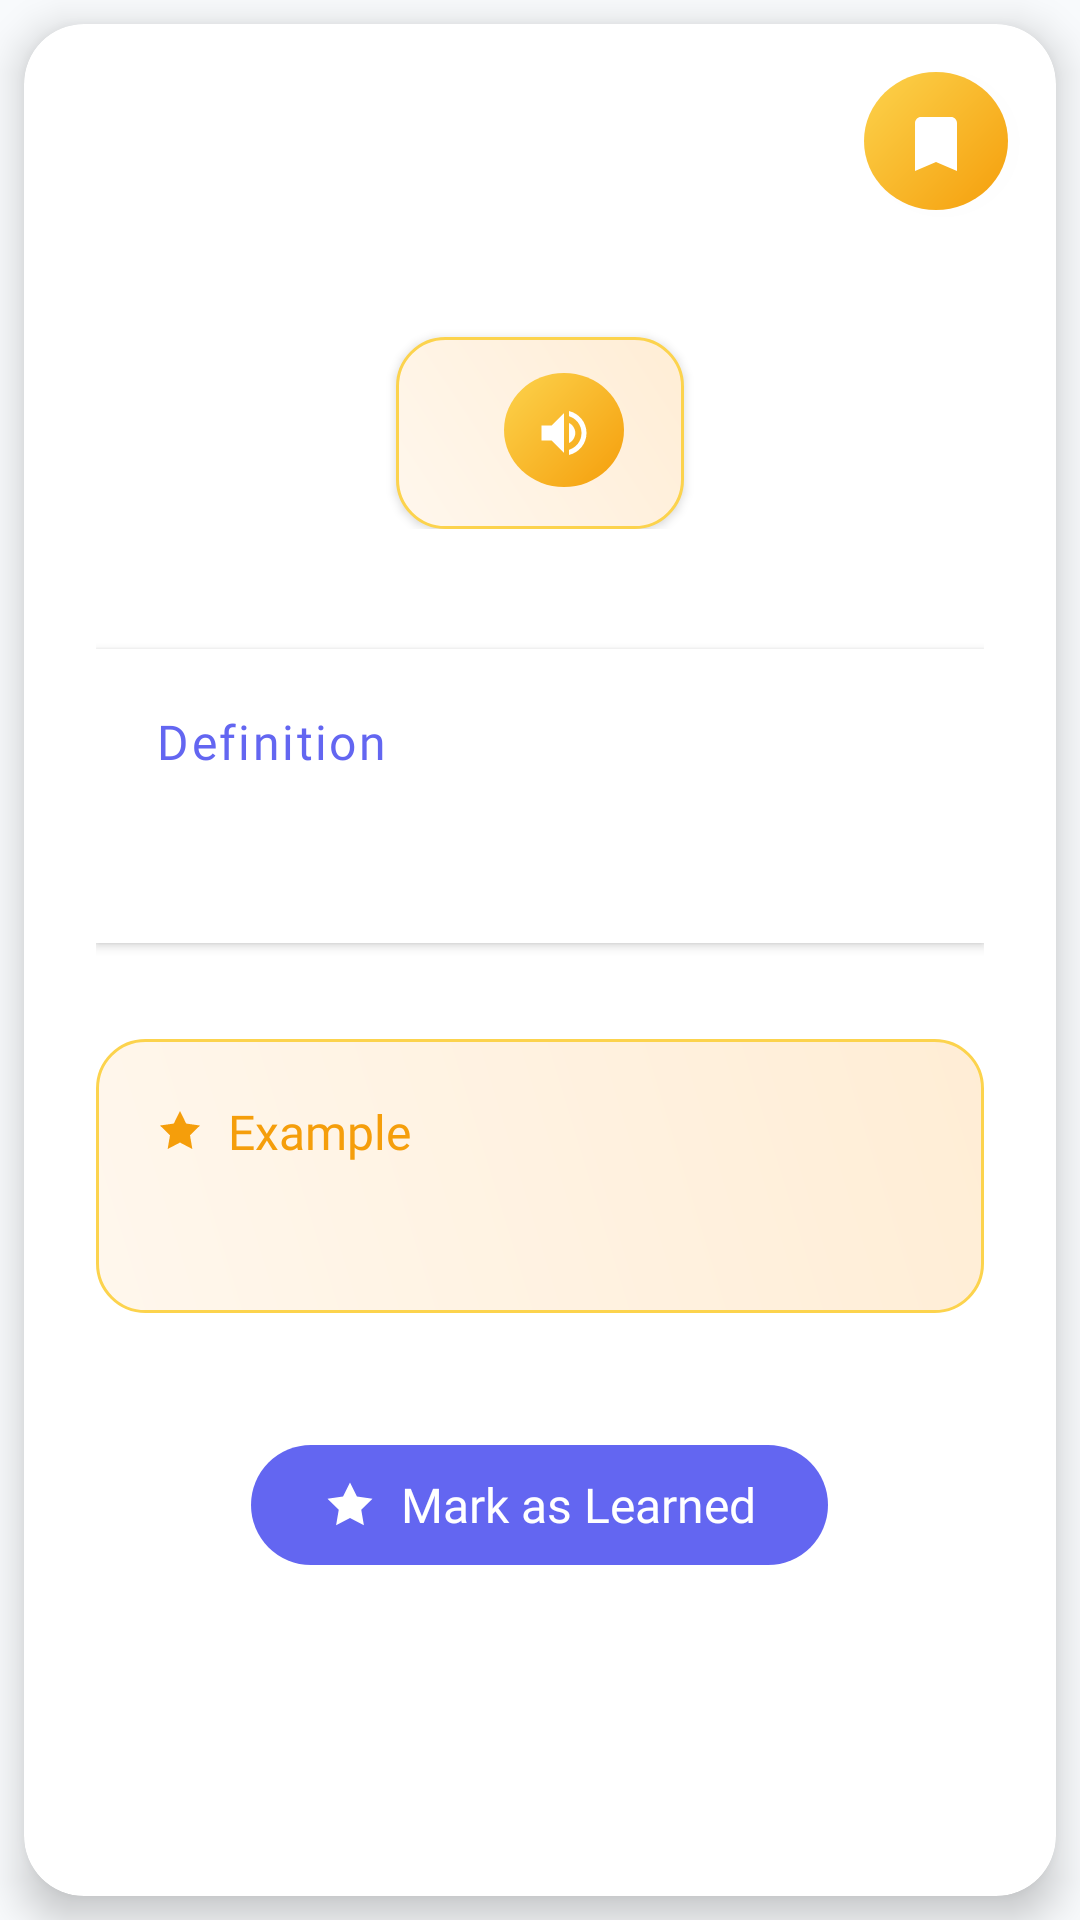

Icon bounding boxes for this 1080*1920 phone screenshot, format (x1, y1, x2, y2):
Play pronunciation audio: (534, 403, 594, 463)
Save this word: (915, 117, 957, 171)
star: (160, 1111, 200, 1149)
